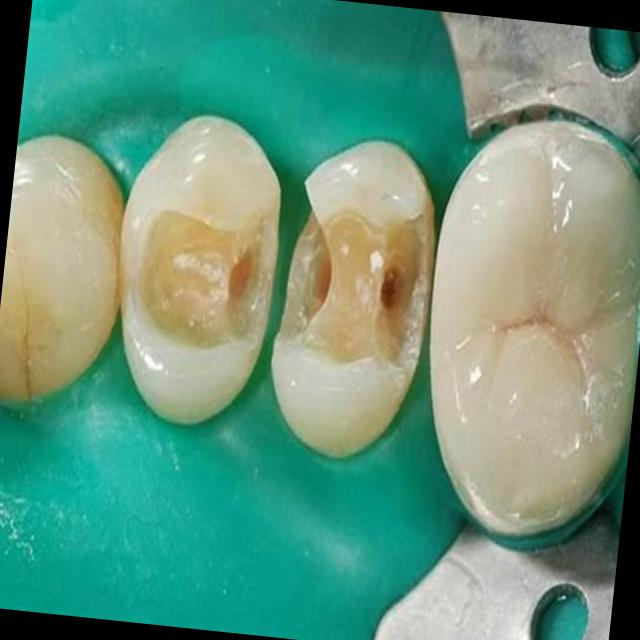Caries: (380, 277, 395, 310)
Cavity: (277, 179, 434, 388), (138, 203, 273, 349)
Tooth: (430, 119, 640, 537), (270, 139, 435, 458), (117, 113, 282, 425), (0, 135, 124, 403)
